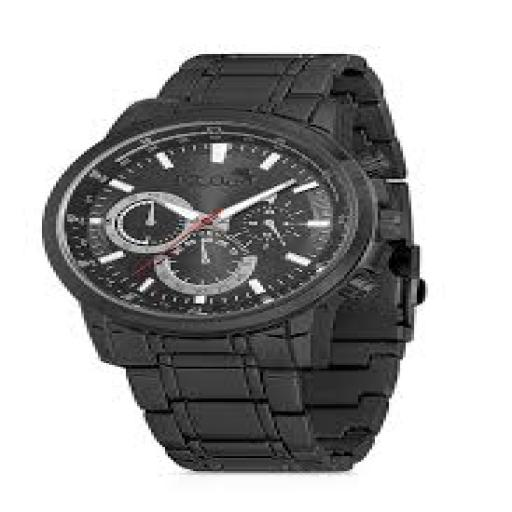KolSaati: (22, 19, 472, 483)
